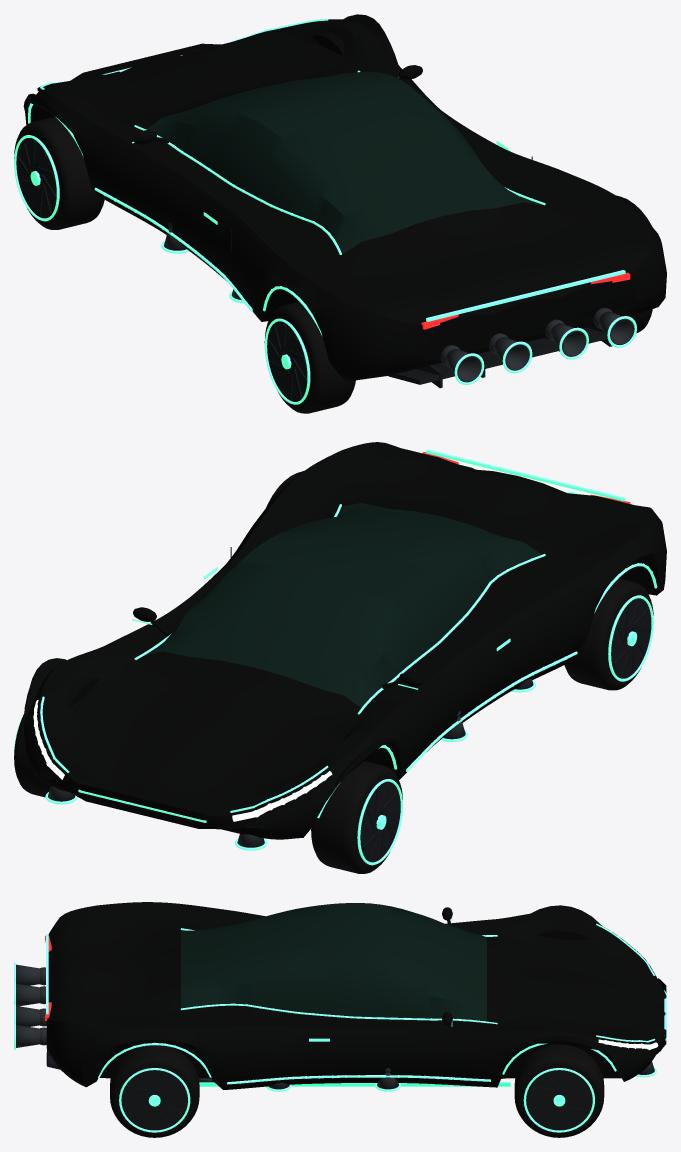
Rendered from car_roadster.glb.
3 views of the same model, one above another, from view 1: azimuth 30°, elevation 25°; view 2: azimuth 150°, elevation 25°; view 3: azimuth 270°, elevation 25° (orthographic). The views are drawn at different scales.
Visible parts, largest first — view 1: Shell, Wheel_FL, Wheel_RL, GreenLines, Diffuser, Thruster_2, Thruster_0, Thruster_1, Thruster_3, TailBar; view 2: Shell, Wheel_FL, Wheel_RL, GreenLines, Wheel_FR, TailBar, HeadLamp; view 3: Shell, Wheel_FR, Wheel_RR, GreenLines, Underglow.001, Thruster_3, Thruster_1, Thruster_0, Thruster_2.
Boxes of the visible parts, x1,y1,x2,y2 form: Shell: [23, 14, 666, 380]; Wheel_FL: [14, 116, 104, 229]; Wheel_RL: [264, 301, 355, 413]; GreenLines: [27, 70, 545, 336]; Diffuser: [388, 328, 607, 384]; Thruster_2: [545, 319, 588, 359]; Thruster_0: [440, 345, 484, 384]; Thruster_1: [489, 333, 532, 373]; Thruster_3: [593, 308, 636, 347]; TailBar: [426, 270, 625, 321]; Shell: [23, 442, 666, 839]; Wheel_FL: [311, 761, 402, 873]; Wheel_RL: [564, 578, 653, 690]; GreenLines: [134, 504, 657, 818]; Wheel_FR: [14, 713, 50, 797]; TailBar: [426, 449, 625, 501]; HeadLamp: [232, 771, 332, 821]; Shell: [46, 902, 666, 1089]; Wheel_FR: [514, 1044, 604, 1137]; Wheel_RR: [110, 1045, 199, 1137]; GreenLines: [98, 928, 616, 1084]; Underglow.001: [199, 1082, 510, 1086]; Thruster_3: [14, 1023, 46, 1049]; Thruster_1: [14, 981, 45, 1006]; Thruster_0: [14, 962, 45, 985]; Thruster_2: [14, 1004, 46, 1026].
Size of what is drawn, in the model's own units: 2.46 by 1.21 by 4.95.
